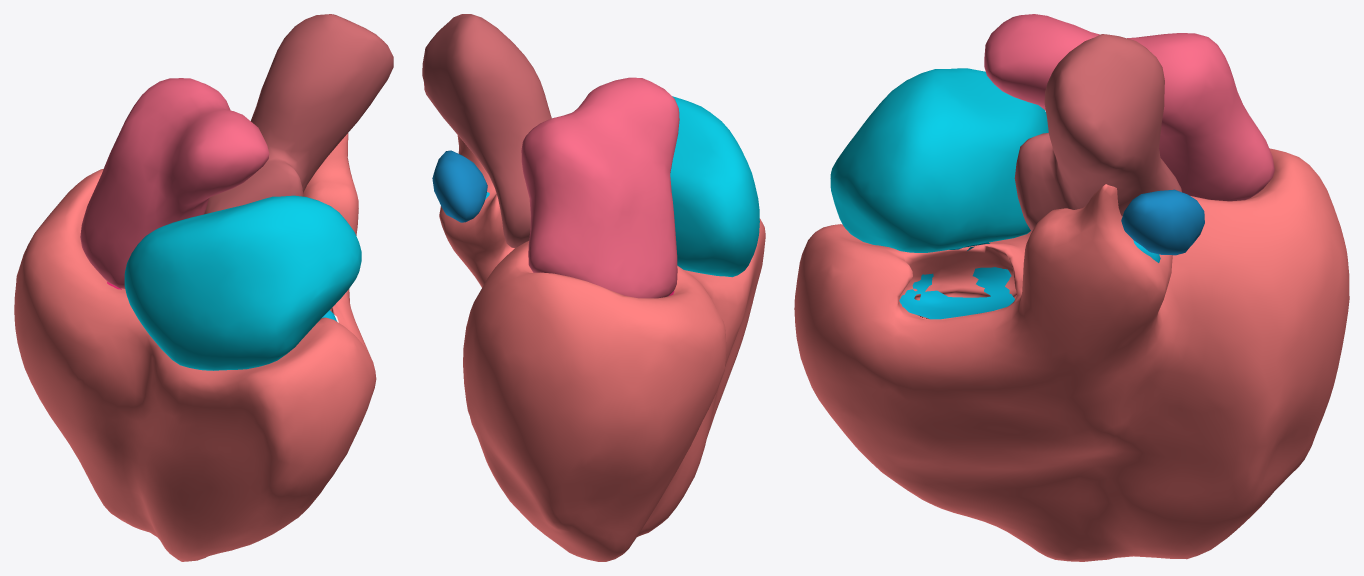
Rendered from frame_20.glb.
3 views of the same model, side by side, from view 1: azimuth 30°, elevation 25°; view 2: azimuth 150°, elevation 25°; view 3: azimuth 270°, elevation 25° (orthographic). The views are drawn at different scales.
Visible parts, largest first — view 1: Renderer Node; view 2: Renderer Node; view 3: Renderer Node.
Part boxes in pixels (<box>): Renderer Node: <box>14,14,393,561</box>; Renderer Node: <box>422,14,765,561</box>; Renderer Node: <box>794,14,1349,561</box>.
Bounding box in the file's own units: 106 × 158 × 128.
